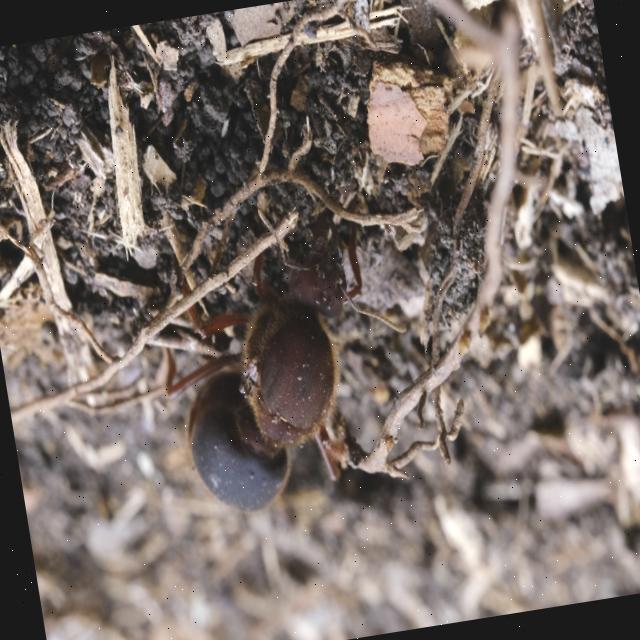Alive-Female-Dealate: (140, 187, 432, 523)
